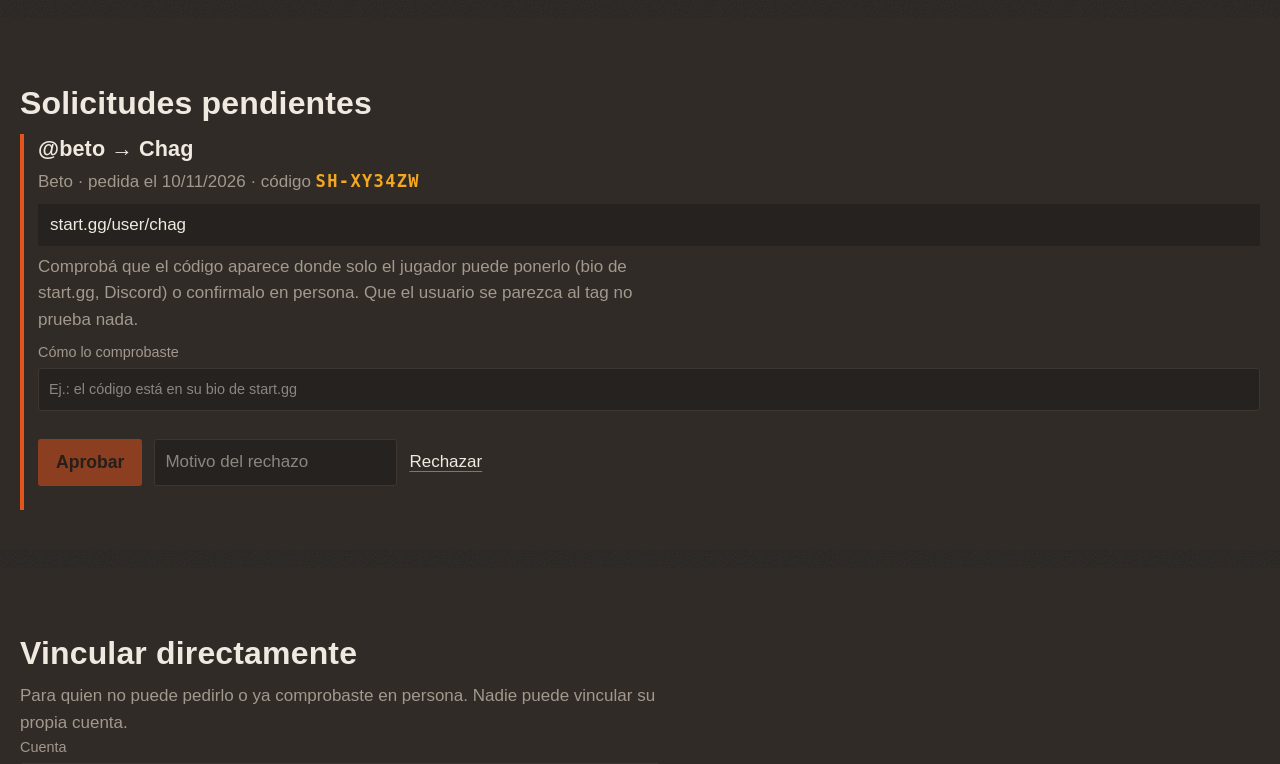
Scenario: organizer access › lists pending requests for administrators to review
Expected: the heading "@beto → Chag" is shown, [38, 136, 194, 161]
Expected: the button "Aprobar" is disabled, [38, 439, 142, 486]
Type "El código está en su bio de start.gg" into the field labelled "Cómo lo comprobaste".
click(649, 389); type("El código está en su bio de start.gg")  # box [38, 368, 1260, 411]
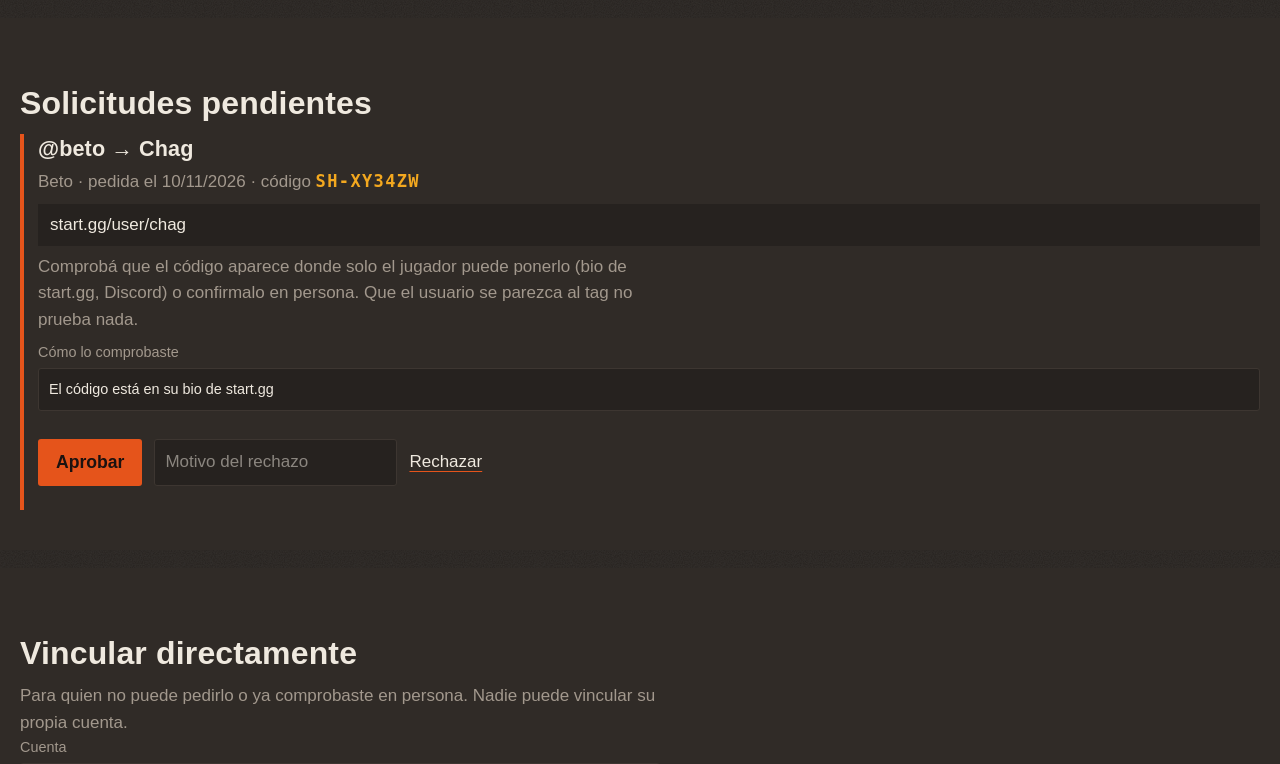
Expected: the button "Aprobar" is enabled, [38, 439, 142, 486]
